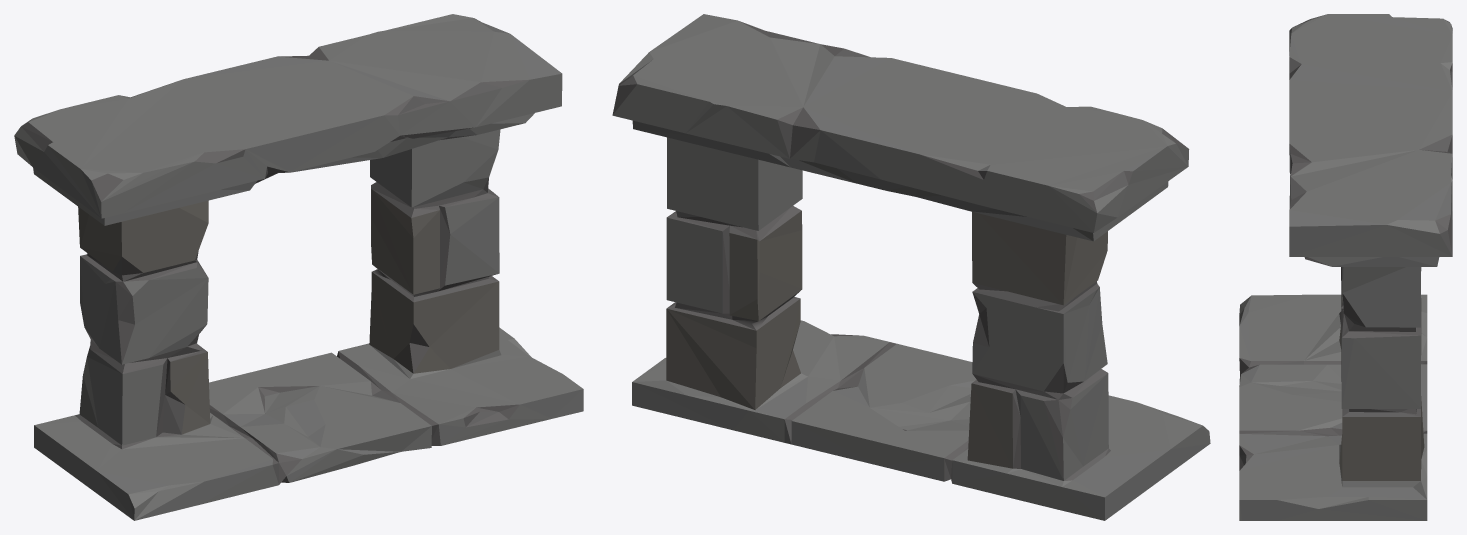
File: SM_Env_Wall_Fireplace_01.FBX
3 views of the same model, side by side, from view 1: azimuth 30°, elevation 25°; view 2: azimuth 150°, elevation 25°; view 3: azimuth 270°, elevation 25° (orthographic). The views are drawn at different scales.
Visible parts, largest first — view 1: SM_Env_Wall_Fireplace_01; view 2: SM_Env_Wall_Fireplace_01; view 3: SM_Env_Wall_Fireplace_01.
Boxes of the visible parts, left/top/right/bottom form: SM_Env_Wall_Fireplace_01: left=14, top=14, right=583, bottom=520; SM_Env_Wall_Fireplace_01: left=612, top=14, right=1210, bottom=520; SM_Env_Wall_Fireplace_01: left=1239, top=14, right=1452, bottom=520.
Size of what is drawn, in the model's own units: 362 by 155 by 241.
